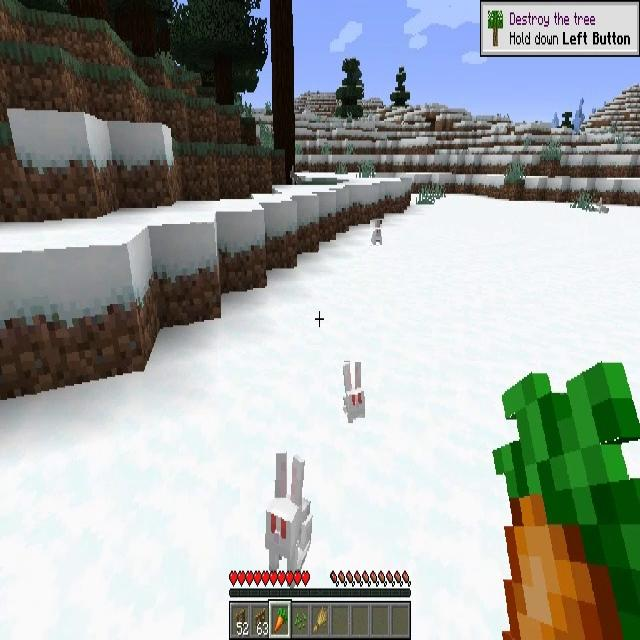rabbit: (260, 449, 314, 568), (339, 362, 366, 426), (370, 220, 382, 245)
